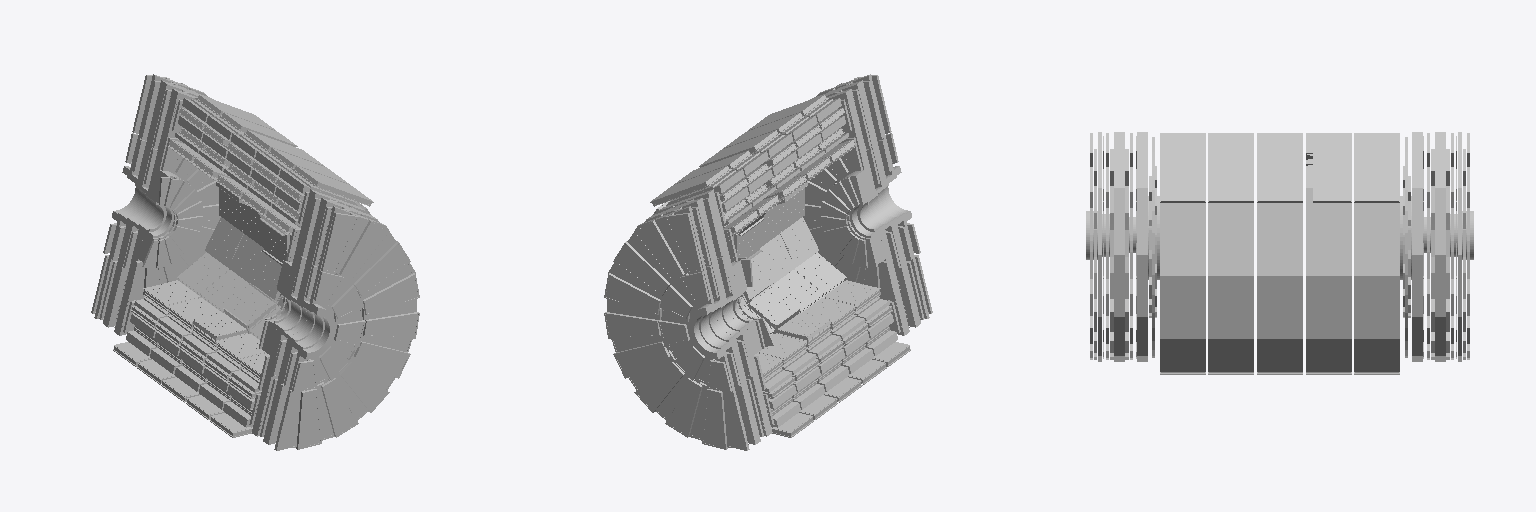
The model's file is muon-3.obj.
3 views of the same model, side by side, from view 1: azimuth 30°, elevation 25°; view 2: azimuth 150°, elevation 25°; view 3: azimuth 270°, elevation 25° (orthographic).
Parts seen in each view (by area): view 1: Mesh519 mf_ME42AlumFrame_materials_M_Aluminium lp_mf_ME42AlumFra, Mesh582 mf_ME42AlumFrame_materials_M_Aluminium11 lp_mf_ME42AlumF, Mesh542 mf_ME42AlumFrame_materials_M_Aluminium5 lp_mf_ME42AlumFr, Mesh596 mf_ME42AlumFrame_materials_M_Aluminium12 lp_mf_ME42AlumF, Mesh625 mf_ME42AlumFrame_materials_M_Aluminium15 lp_mf_ME42AlumF, Mesh628 mf_ME42AlumFrame_materials_M_Aluminium16 lp_mf_ME42AlumF, Mesh526 mf_ME42AlumFrame_materials_M_Aluminium3 lp_mf_ME42AlumFr, Mesh523 mf_ME42AlumFrame_materials_M_Aluminium1 lp_mf_ME42AlumFr, Mesh546 mf_ME42AlumFrame_materials_M_Aluminium7 lp_mf_ME42AlumFr, Mesh808 mf_ME42AlumFrame_materials_M_Aluminium17 lp_mf_ME42AlumF, Mesh2326 muonYoke_YE1_b_materials_AISI_1018_Steel11 lp_muonYoke_, Mesh498 muonYoke_YE2_b_materials_AISI_1018_Steel3 lp_muonYoke_YE (+16 smaller); view 2: Mesh2534 mf_ME42AlumFrame_materials_M_Aluminium23 lp_mf_ME42Alum, Mesh2535 mf_ME42AlumFrame_materials_M_Aluminium24 lp_mf_ME42Alum, Mesh2536 mf_ME42AlumFrame_materials_M_Aluminium25 lp_mf_ME42Alum, Mesh2533 mf_ME42AlumFrame_materials_M_Aluminium22 lp_mf_ME42Alum, Mesh2537 mf_ME42AlumFrame_materials_M_Aluminium26 lp_mf_ME42Alum, Mesh2529 mf_ME42AlumFrame_materials_M_Aluminium18 lp_mf_ME42Alum, Mesh2532 mf_ME42AlumFrame_materials_M_Aluminium21 lp_mf_ME42Alum, Mesh2530 mf_ME42AlumFrame_materials_M_Aluminium19 lp_mf_ME42Alum, Mesh2531 mf_ME42AlumFrame_materials_M_Aluminium20 lp_mf_ME42Alum, Mesh2542 mf_ME42AlumFrame_materials_M_Aluminium31 lp_mf_ME42Alum, Mesh770 muonYoke_YE1_b_materials_AISI_1018_Steel3 lp_muonYoke_YE, Mesh2351 muonYoke_YE2_b_materials_AISI_1018_Steel6 lp_muonYoke_Y (+16 smaller); view 3: Mesh39 mb4_MB4BigSuperLayerPhi_materials_Air1 lp_mb4_MB4BigSuper, Mesh304 mb4_MB4BigSuperLayerPhi_materials_Air3 lp_mb4_MB4BigSupe, Mesh942 mb4_MB4BigSuperLayerPhi_materials_Air9 lp_mb4_MB4BigSupe, Mesh1454 mb4_MB4BigSuperLayerPhi_materials_Air15 lp_mb4_MB4BigSu, Mesh1672 mb4_MB4BigSuperLayerPhi_materials_Air23 lp_mb4_MB4BigSu, Mesh823 mb4_MB4BigSuperLayerPhi_materials_Air7 lp_mb4_MB4BigSupe, Mesh1458 mb4_MB4BigSuperLayerPhi_materials_Air17 lp_mb4_MB4BigSu, Mesh1598 mb4_MB4BigSuperLayerPhi_materials_Air21 lp_mb4_MB4BigSu, Mesh1948 mb4_MB4BigSuperLayerPhi_materials_Air25 lp_mb4_MB4BigSu, Mesh2048 mb4_MB4BigSuperLayerPhi_materials_Air27 lp_mb4_MB4BigSu, Mesh308 mb4_MB4BigSuperLayerPhi_materials_Air5 lp_mb4_MB4BigSupe, Mesh984 mb4_MB4BigSuperLayerPhi_materials_Air11 lp_mb4_MB4BigSup (+20 smaller).
Boxes of the visible parts, x1,y1,x2,y2 form: Mesh519 mf_ME42AlumFrame_materials_M_Aluminium lp_mf_ME42AlumFra: [321, 213, 358, 272]; Mesh582 mf_ME42AlumFrame_materials_M_Aluminium11 lp_mf_ME42AlumF: [354, 241, 410, 296]; Mesh542 mf_ME42AlumFrame_materials_M_Aluminium5 lp_mf_ME42AlumFr: [339, 220, 388, 281]; Mesh596 mf_ME42AlumFrame_materials_M_Aluminium12 lp_mf_ME42AlumF: [296, 389, 321, 449]; Mesh625 mf_ME42AlumFrame_materials_M_Aluminium15 lp_mf_ME42AlumF: [363, 273, 419, 314]; Mesh628 mf_ME42AlumFrame_materials_M_Aluminium16 lp_mf_ME42AlumF: [363, 312, 419, 338]; Mesh526 mf_ME42AlumFrame_materials_M_Aluminium3 lp_mf_ME42AlumFr: [321, 378, 358, 437]; Mesh523 mf_ME42AlumFrame_materials_M_Aluminium1 lp_mf_ME42AlumFr: [354, 341, 410, 378]; Mesh546 mf_ME42AlumFrame_materials_M_Aluminium7 lp_mf_ME42AlumFr: [339, 362, 389, 412]; Mesh808 mf_ME42AlumFrame_materials_M_Aluminium17 lp_mf_ME42AlumF: [275, 390, 304, 448]; Mesh2326 muonYoke_YE1_b_materials_AISI_1018_Steel11 lp_muonYoke_: [148, 89, 197, 194]; Mesh498 muonYoke_YE2_b_materials_AISI_1018_Steel3 lp_muonYoke_YE: [298, 198, 377, 301]; Mesh2534 mf_ME42AlumFrame_materials_M_Aluminium23 lp_mf_ME42Alum: [665, 213, 702, 272]; Mesh2535 mf_ME42AlumFrame_materials_M_Aluminium24 lp_mf_ME42Alum: [613, 241, 669, 296]; Mesh2536 mf_ME42AlumFrame_materials_M_Aluminium25 lp_mf_ME42Alum: [635, 220, 684, 281]; Mesh2533 mf_ME42AlumFrame_materials_M_Aluminium22 lp_mf_ME42Alum: [702, 389, 727, 449]; Mesh2537 mf_ME42AlumFrame_materials_M_Aluminium26 lp_mf_ME42Alum: [604, 273, 660, 314]; Mesh2529 mf_ME42AlumFrame_materials_M_Aluminium18 lp_mf_ME42Alum: [604, 312, 660, 338]; Mesh2532 mf_ME42AlumFrame_materials_M_Aluminium21 lp_mf_ME42Alum: [665, 378, 702, 437]; Mesh2530 mf_ME42AlumFrame_materials_M_Aluminium19 lp_mf_ME42Alum: [613, 341, 669, 378]; Mesh2531 mf_ME42AlumFrame_materials_M_Aluminium20 lp_mf_ME42Alum: [634, 362, 684, 412]; Mesh2542 mf_ME42AlumFrame_materials_M_Aluminium31 lp_mf_ME42Alum: [719, 390, 748, 448]; Mesh770 muonYoke_YE1_b_materials_AISI_1018_Steel3 lp_muonYoke_YE: [826, 89, 875, 194]; Mesh2351 muonYoke_YE2_b_materials_AISI_1018_Steel6 lp_muonYoke_Y: [646, 198, 725, 301]; Mesh39 mb4_MB4BigSuperLayerPhi_materials_Air1 lp_mb4_MB4BigSuper: [1306, 202, 1351, 275]; Mesh304 mb4_MB4BigSuperLayerPhi_materials_Air3 lp_mb4_MB4BigSupe: [1354, 203, 1399, 275]; Mesh942 mb4_MB4BigSuperLayerPhi_materials_Air9 lp_mb4_MB4BigSupe: [1257, 203, 1302, 275]; Mesh1454 mb4_MB4BigSuperLayerPhi_materials_Air15 lp_mb4_MB4BigSu: [1208, 203, 1253, 275]; Mesh1672 mb4_MB4BigSuperLayerPhi_materials_Air23 lp_mb4_MB4BigSu: [1160, 203, 1205, 275]; Mesh823 mb4_MB4BigSuperLayerPhi_materials_Air7 lp_mb4_MB4BigSupe: [1257, 276, 1302, 338]; Mesh1458 mb4_MB4BigSuperLayerPhi_materials_Air17 lp_mb4_MB4BigSu: [1208, 276, 1253, 338]; Mesh1598 mb4_MB4BigSuperLayerPhi_materials_Air21 lp_mb4_MB4BigSu: [1160, 276, 1205, 338]; Mesh1948 mb4_MB4BigSuperLayerPhi_materials_Air25 lp_mb4_MB4BigSu: [1354, 276, 1399, 338]; Mesh2048 mb4_MB4BigSuperLayerPhi_materials_Air27 lp_mb4_MB4BigSu: [1306, 276, 1351, 338]; Mesh308 mb4_MB4BigSuperLayerPhi_materials_Air5 lp_mb4_MB4BigSupe: [1354, 140, 1399, 200]; Mesh984 mb4_MB4BigSuperLayerPhi_materials_Air11 lp_mb4_MB4BigSup: [1257, 140, 1302, 200].
Bounding box in the file's own units: 10.57 × 14.32 × 21.36.